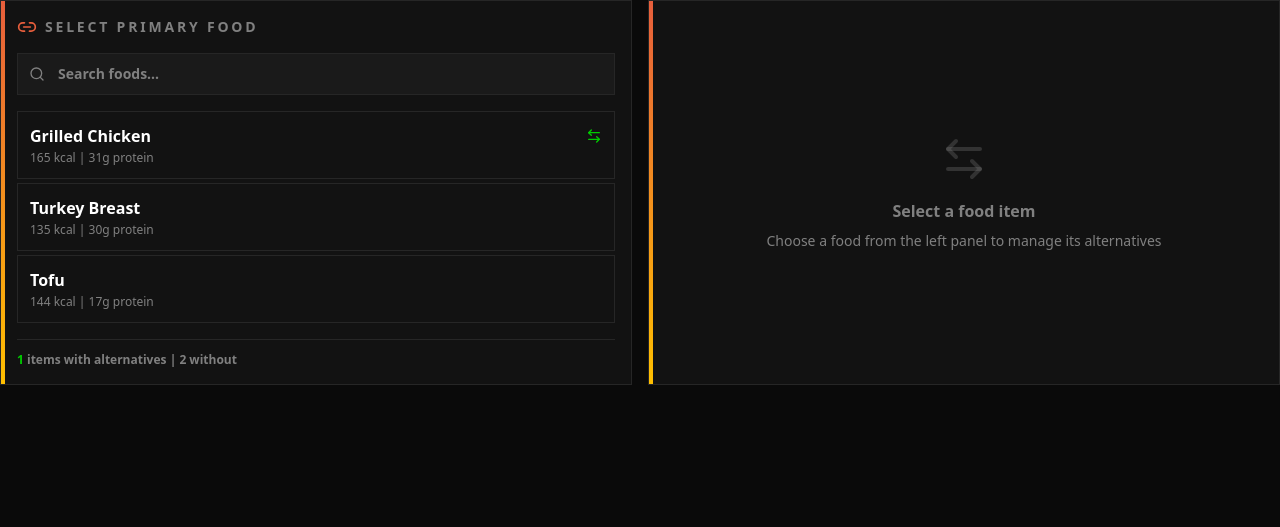
Test: AlternativesLinker › shows remove count in pending changes when removing alternatives
The width and height of the screenshot is (1280, 527).
Select chicken (which has Turkey Breast as alternative)
Click the button "Grilled Chicken 165 kcal | 31g protein" at (90, 136), box top-left (17, 111), bottom-right (615, 179)
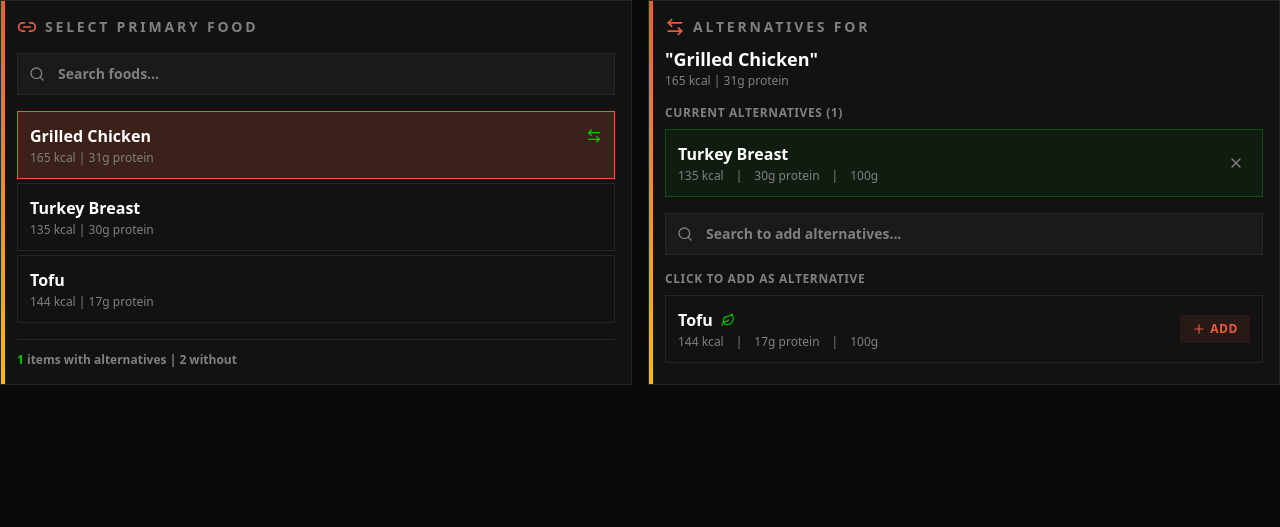
Remove the existing alternative (Turkey Breast) using aria-label
Click the button named "remove turkey breast" at (1236, 163), box top-left (1222, 149), bottom-right (1250, 177)
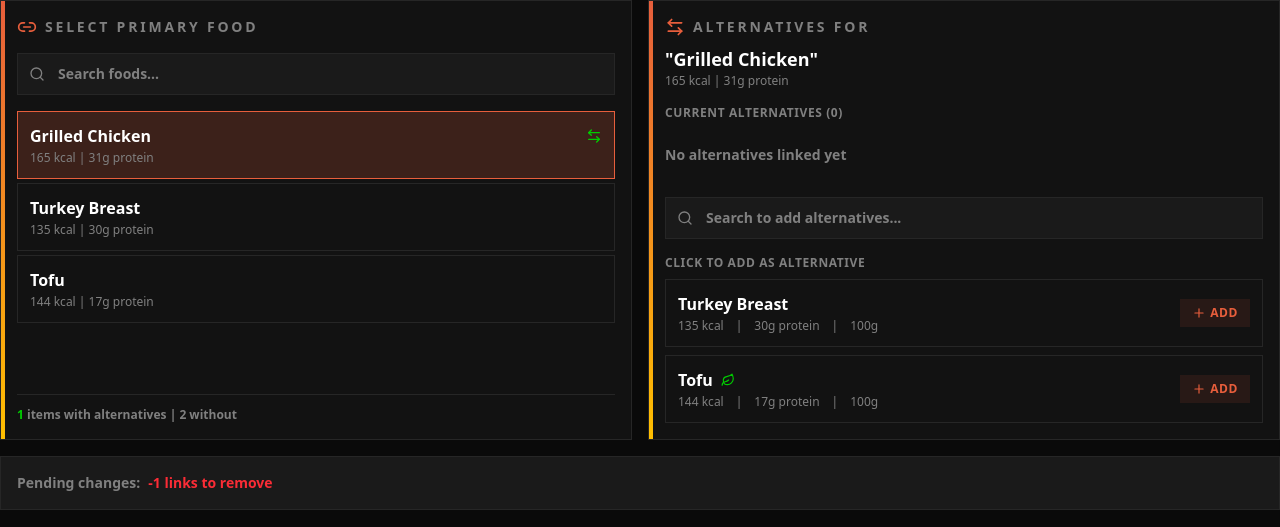
Expected: the text "Pending changes:" is shown, top-left (17, 473), bottom-right (140, 492)
Expected: the text "-1 links to remove" is shown, top-left (148, 473), bottom-right (272, 492)
